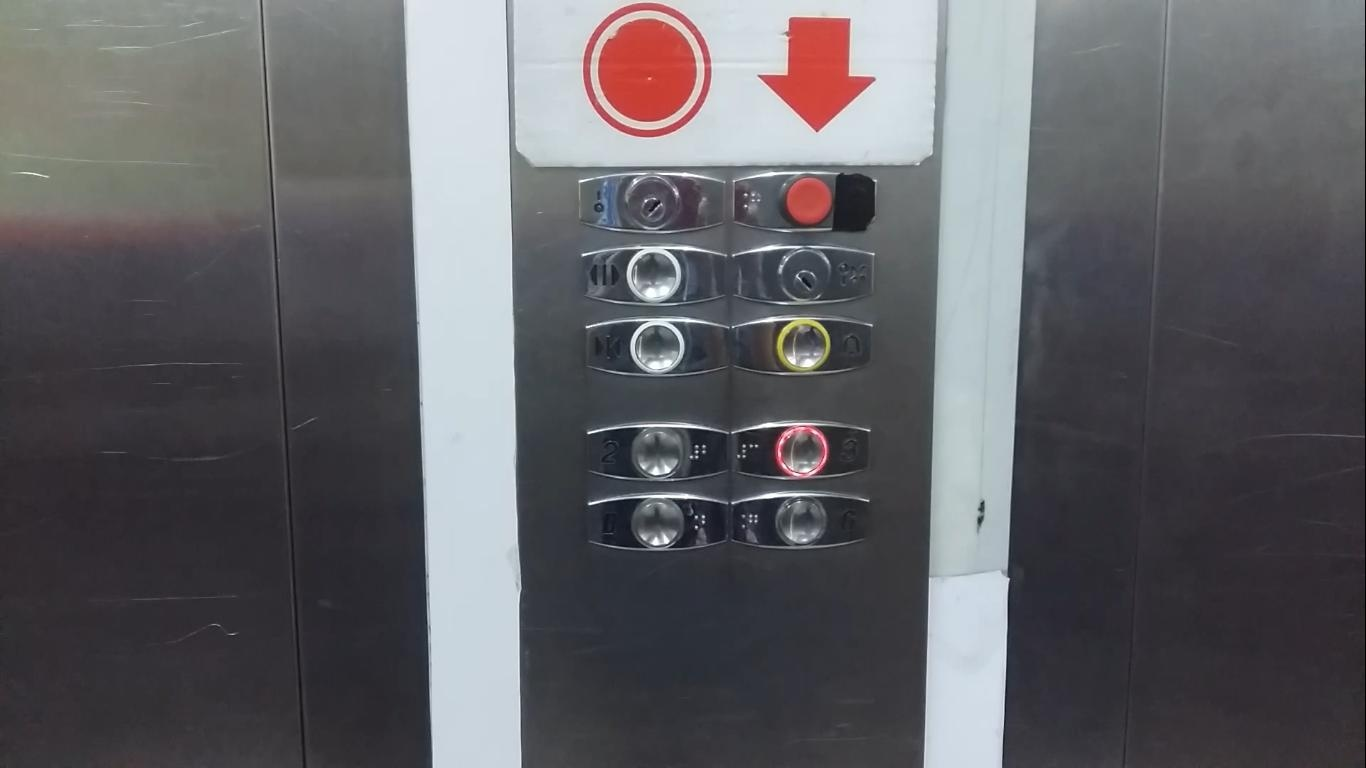0: (584, 491, 729, 554)
2: (584, 419, 729, 484)
3: (731, 418, 872, 483)
G: (731, 489, 871, 552)
alarm: (731, 314, 875, 379)
blur: (729, 167, 878, 236)
close: (583, 314, 731, 380)
key: (574, 169, 727, 236)
keyhole: (731, 243, 877, 308)
open: (577, 243, 729, 309)
